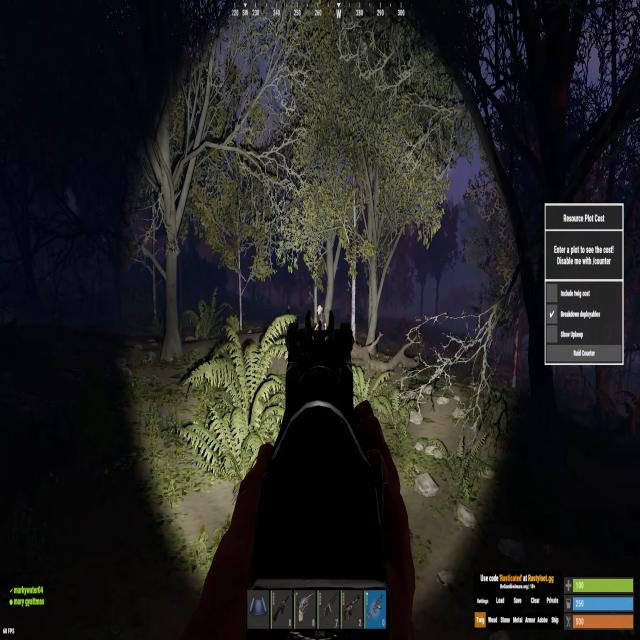Player: (315, 305, 327, 330)
